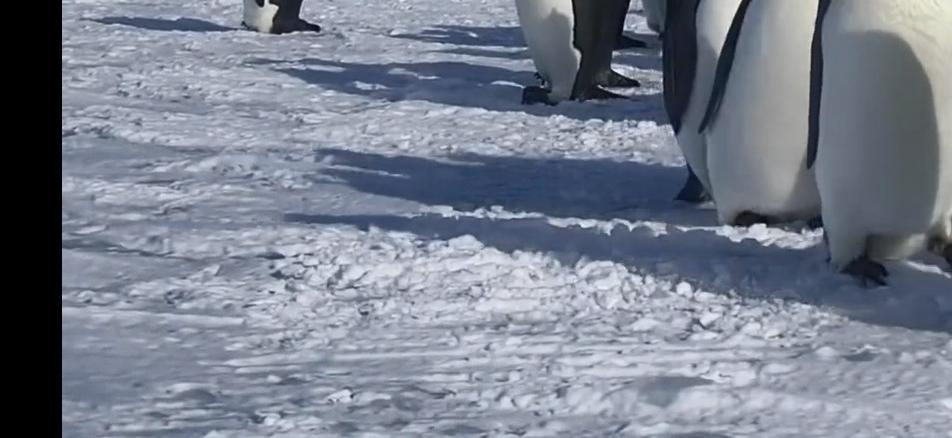Emperor Penguin: (799, 0, 952, 296), (658, 0, 806, 202), (482, 0, 610, 110), (222, 0, 332, 56), (680, 0, 760, 62)
